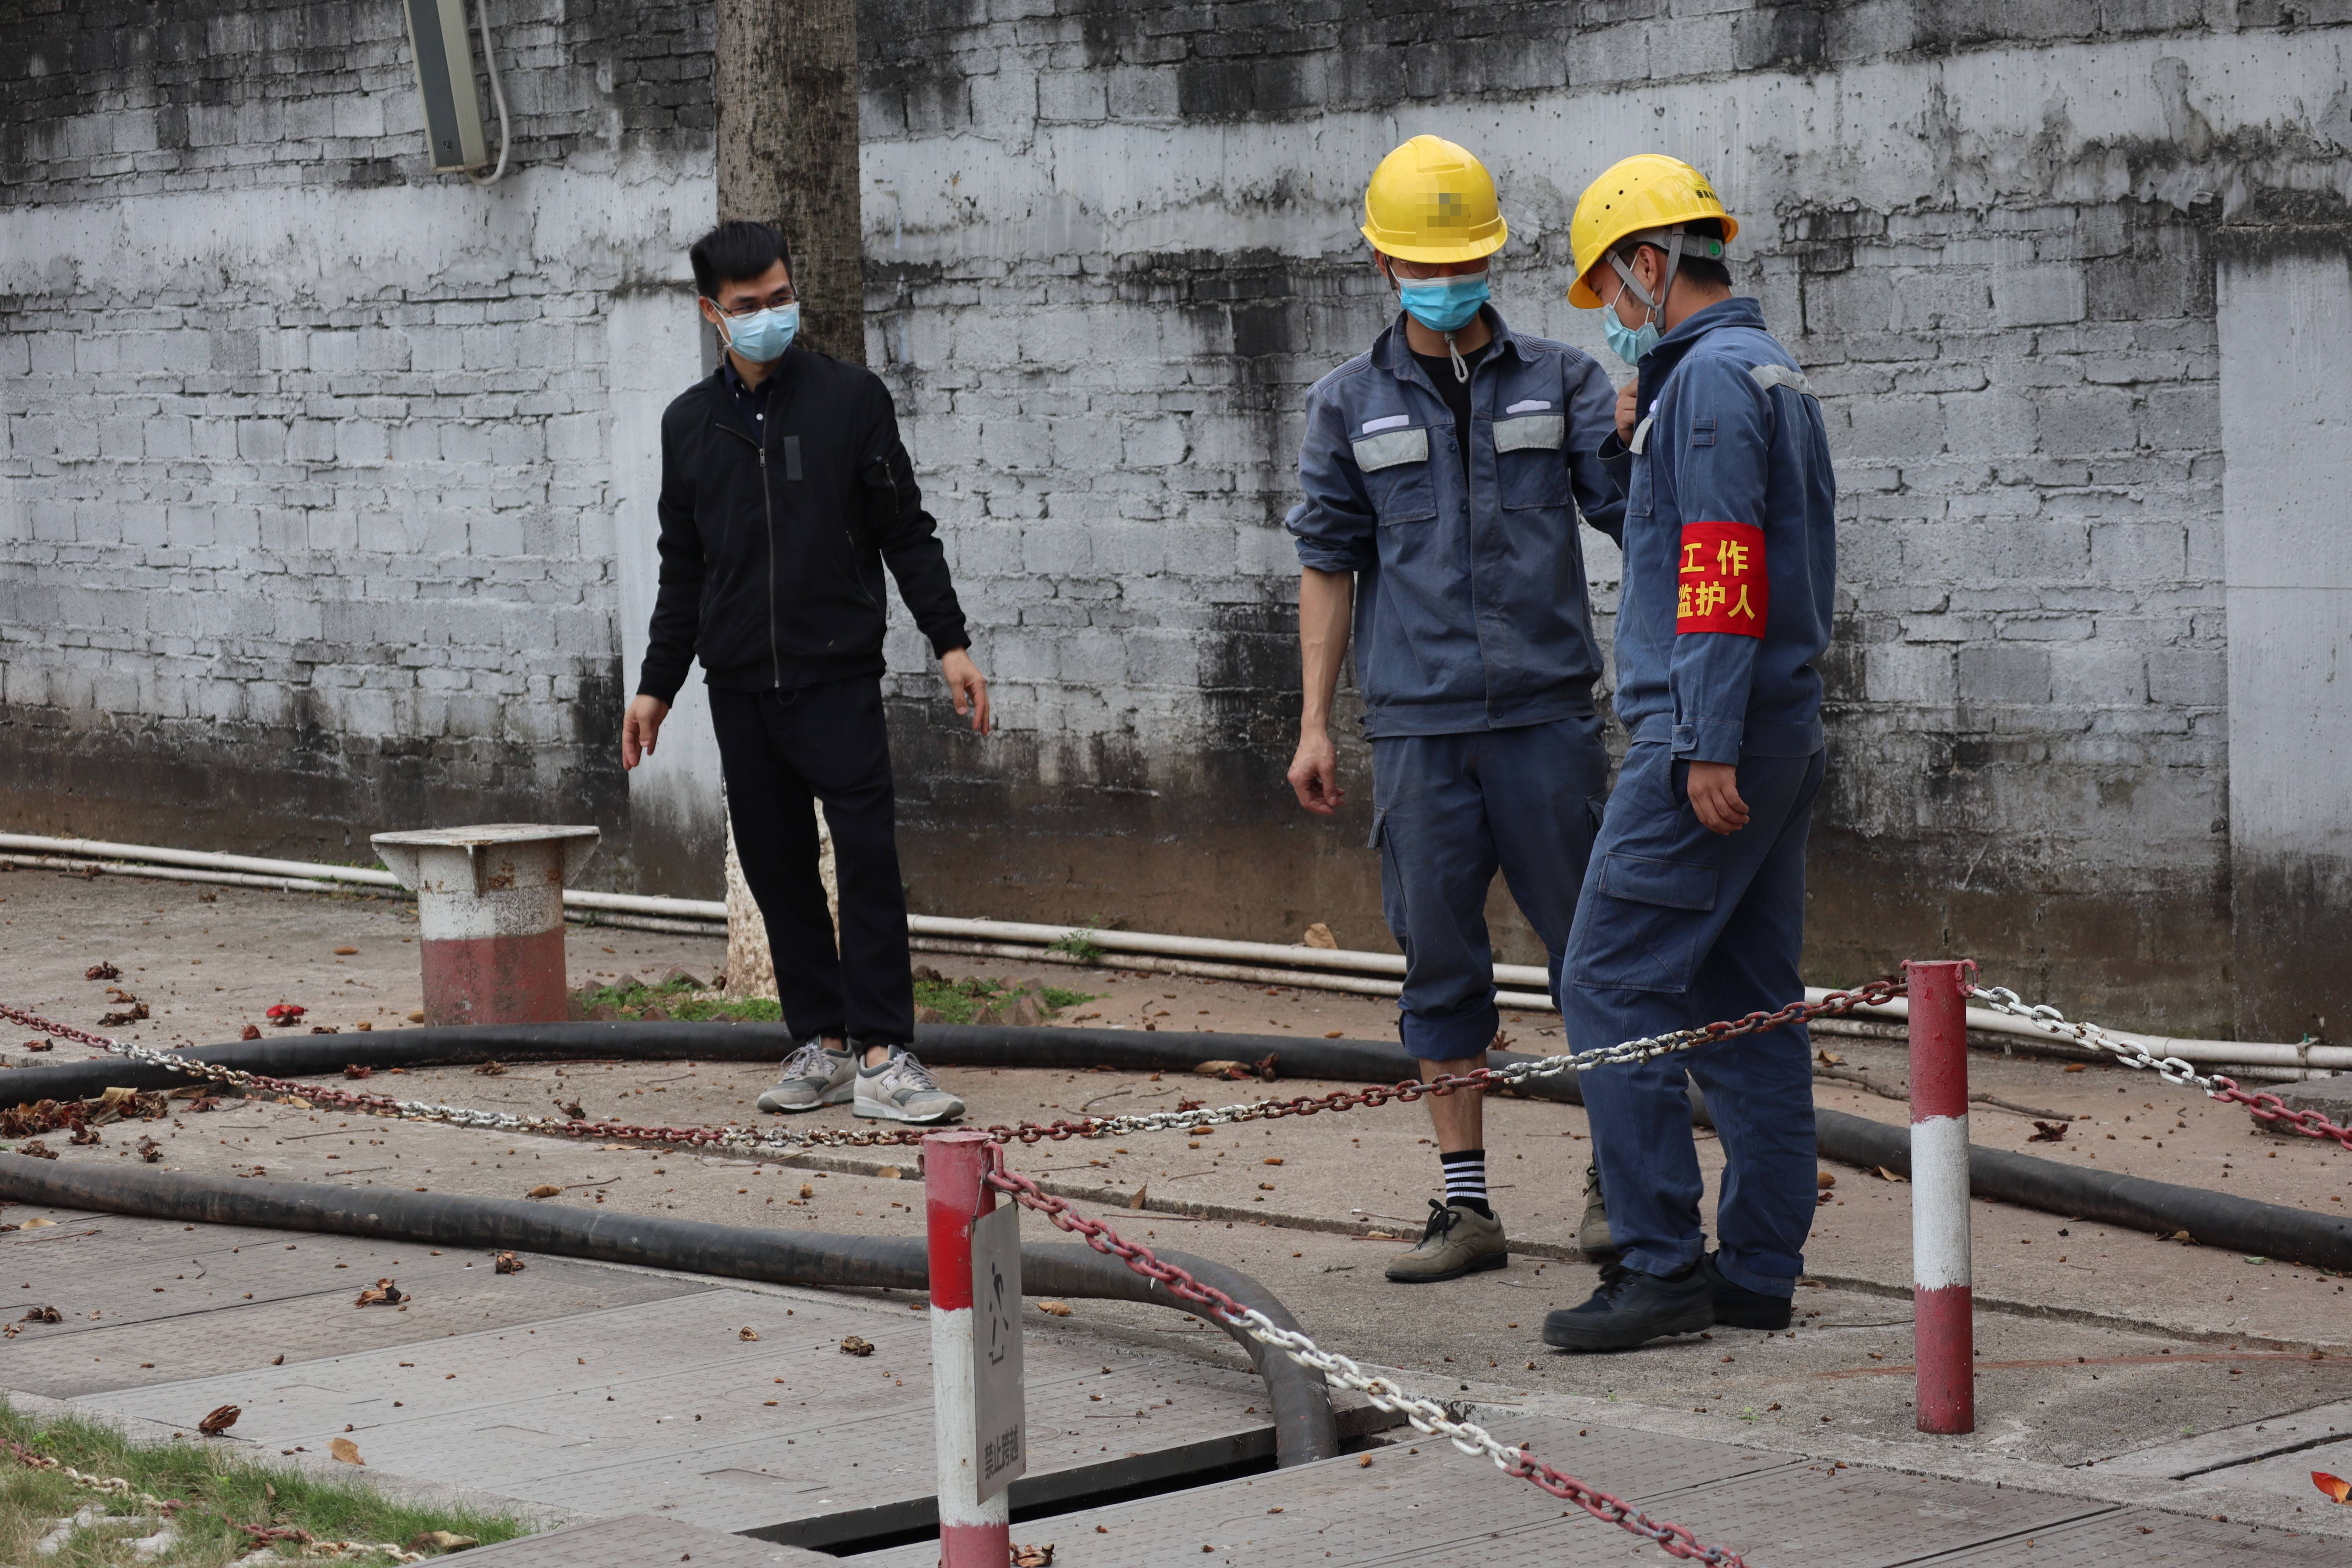downcloth: (714, 700, 931, 1047)
downsuit: (1633, 795, 1813, 1306), (1361, 744, 1615, 1062)
upcloth: (647, 369, 924, 686)
upsuit: (1288, 303, 1628, 709), (1652, 322, 1846, 763)
wrongtop: (1274, 480, 1353, 751)
